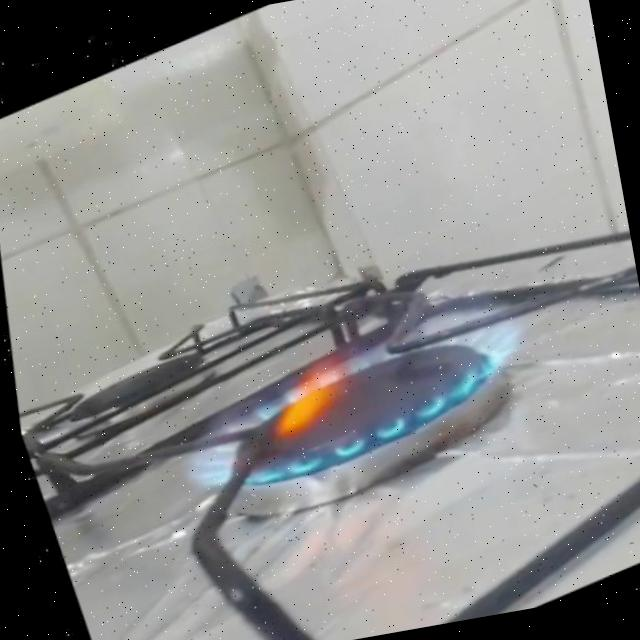fire: (134, 267, 562, 533)
